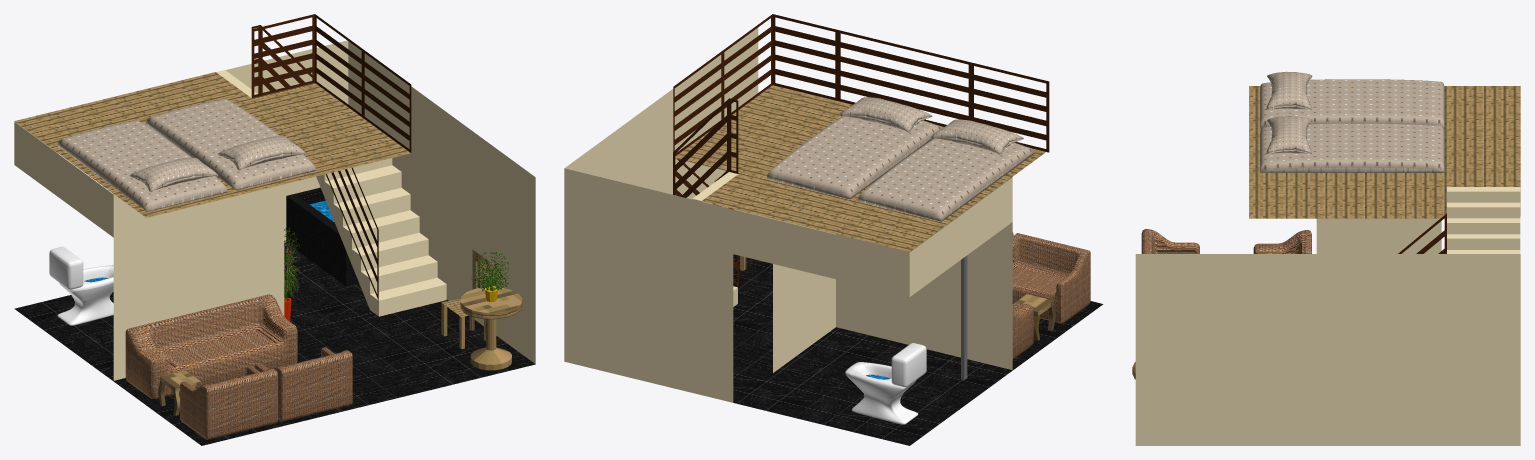
Rendered from Interior_Loft.glb.
The picture shows the model from 3 angles, left to right: view 1: azimuth 30°, elevation 25°; view 2: azimuth 150°, elevation 25°; view 3: azimuth 270°, elevation 25°; orthographic projection. The views are drawn at different scales.
Visible parts, largest first — view 1: Loft Interior; view 2: Loft Interior; view 3: Loft Interior.
Boxes of the visible parts, box(x1,y1,x2,y2) form: Loft Interior: box(14, 14, 535, 445); Loft Interior: box(564, 14, 1103, 445); Loft Interior: box(1132, 71, 1520, 445).
Size of the model in its own units: 5.17 by 3.8 by 5.03.
Materials: 14 (7 with a texture image).
